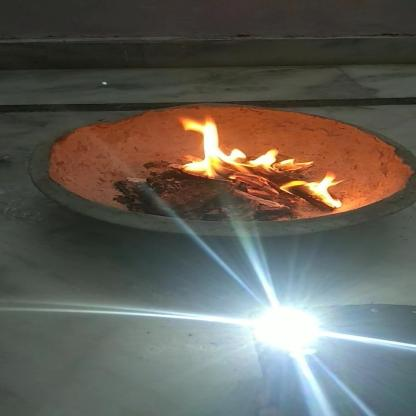fire: (174, 114, 317, 180), (278, 172, 352, 210)
